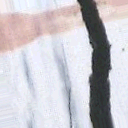crackTip: (59, 1, 118, 128)
